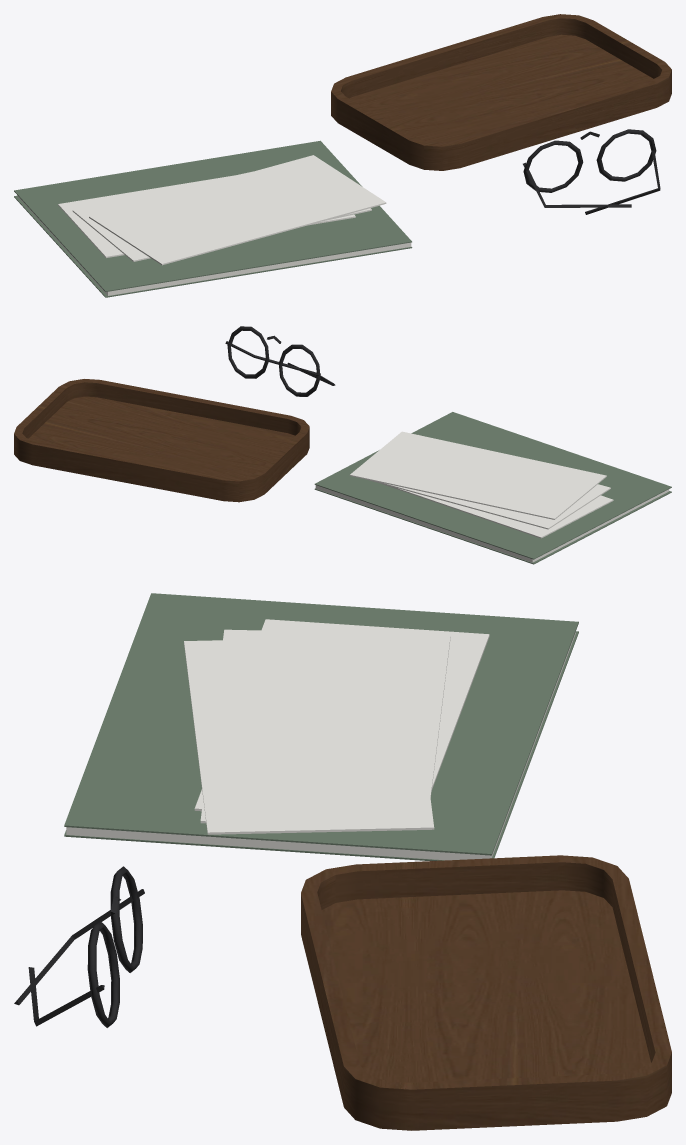
File: decor_b_vignette_keys.gltf
The picture shows the model from 3 angles, top to bottom: view 1: azimuth 30°, elevation 25°; view 2: azimuth 150°, elevation 25°; view 3: azimuth 270°, elevation 25°; orthographic projection. The views are drawn at different scales.
Visible parts, largest first — view 1: DecorBVignetteKeys_Walnut_NoCollide, DecorBVignetteKeys_PaperWhite_NoCollide, DecorBVignetteKeys_Magazine01_LinenSage_NoCollide, DecorBVignetteKeys_Spectacles01_BlackMetal_NoCollide, DecorBVignetteKeys_Magazine01_PaperWhite_NoCollide; view 2: DecorBVignetteKeys_Walnut_NoCollide, DecorBVignetteKeys_PaperWhite_NoCollide, DecorBVignetteKeys_Magazine01_LinenSage_NoCollide, DecorBVignetteKeys_Spectacles01_BlackMetal_NoCollide, DecorBVignetteKeys_Magazine01_PaperWhite_NoCollide; view 3: DecorBVignetteKeys_Walnut_NoCollide, DecorBVignetteKeys_PaperWhite_NoCollide, DecorBVignetteKeys_Magazine01_LinenSage_NoCollide, DecorBVignetteKeys_Spectacles01_BlackMetal_NoCollide, DecorBVignetteKeys_Magazine01_PaperWhite_NoCollide.
Boxes of the visible parts, x1,y1,x2,y2 form: DecorBVignetteKeys_Walnut_NoCollide: (331,14,671,170); DecorBVignetteKeys_PaperWhite_NoCollide: (58,155,386,265); DecorBVignetteKeys_Magazine01_LinenSage_NoCollide: (14,140,412,297); DecorBVignetteKeys_Spectacles01_BlackMetal_NoCollide: (523,129,660,214); DecorBVignetteKeys_Magazine01_PaperWhite_NoCollide: (17,195,411,295); DecorBVignetteKeys_Walnut_NoCollide: (14,379,309,502); DecorBVignetteKeys_PaperWhite_NoCollide: (349,431,613,538); DecorBVignetteKeys_Magazine01_LinenSage_NoCollide: (314,412,671,564); DecorBVignetteKeys_Spectacles01_BlackMetal_NoCollide: (225,326,335,396); DecorBVignetteKeys_Magazine01_PaperWhite_NoCollide: (315,485,669,562); DecorBVignetteKeys_Walnut_NoCollide: (301,855,671,1130); DecorBVignetteKeys_PaperWhite_NoCollide: (184,619,489,834); DecorBVignetteKeys_Magazine01_LinenSage_NoCollide: (64,593,578,860); DecorBVignetteKeys_Spectacles01_BlackMetal_NoCollide: (14,866,144,1027); DecorBVignetteKeys_Magazine01_PaperWhite_NoCollide: (66,631,575,860).
Size of the model in its own units: 0.6043 by 0.0534 by 0.3192.
Materials: 4 (1 with a texture image).
